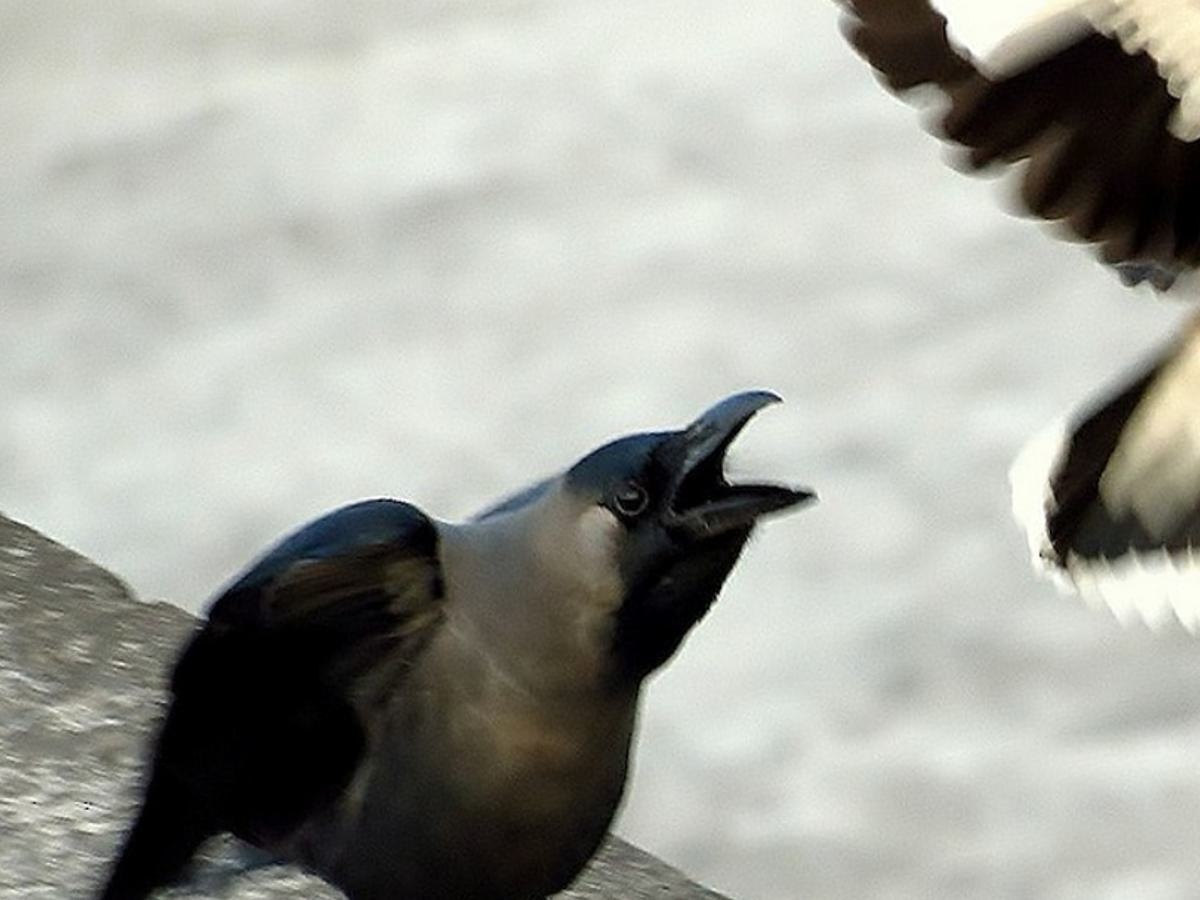crow: (1, 363, 829, 900)
